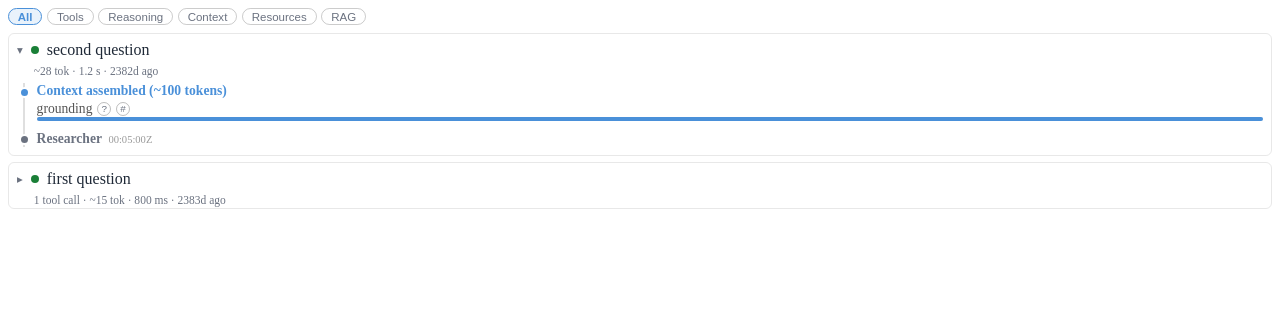
Test: a tool_call/result pair renders one ToolIO node
Expand the older turn (collapsed by default) to reveal its tool node.
Click the button with test id "timeline-turn-header" showing "▸ first question": point(89, 178) [9,163,1271,194]
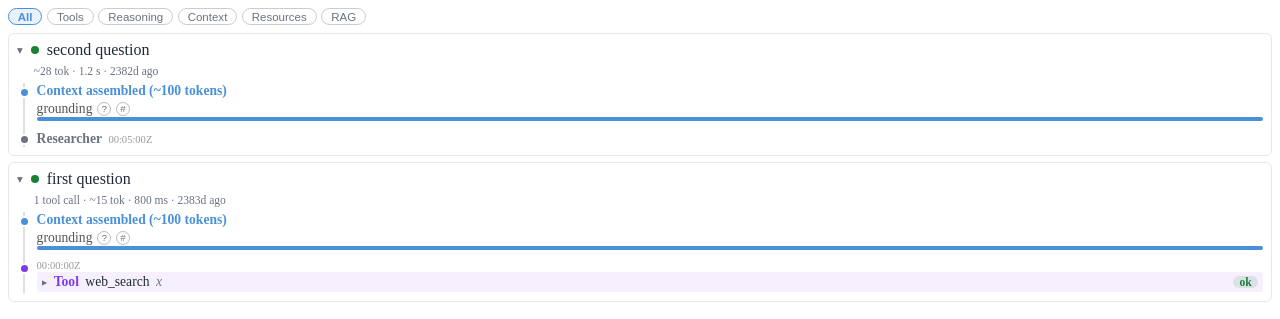
Check: the number of elements with test id "toolio" is 1, box [37,272,1263,292]
Check: the button with test id "toolio-summary" shows "web_search", box [42,273,1258,291]
